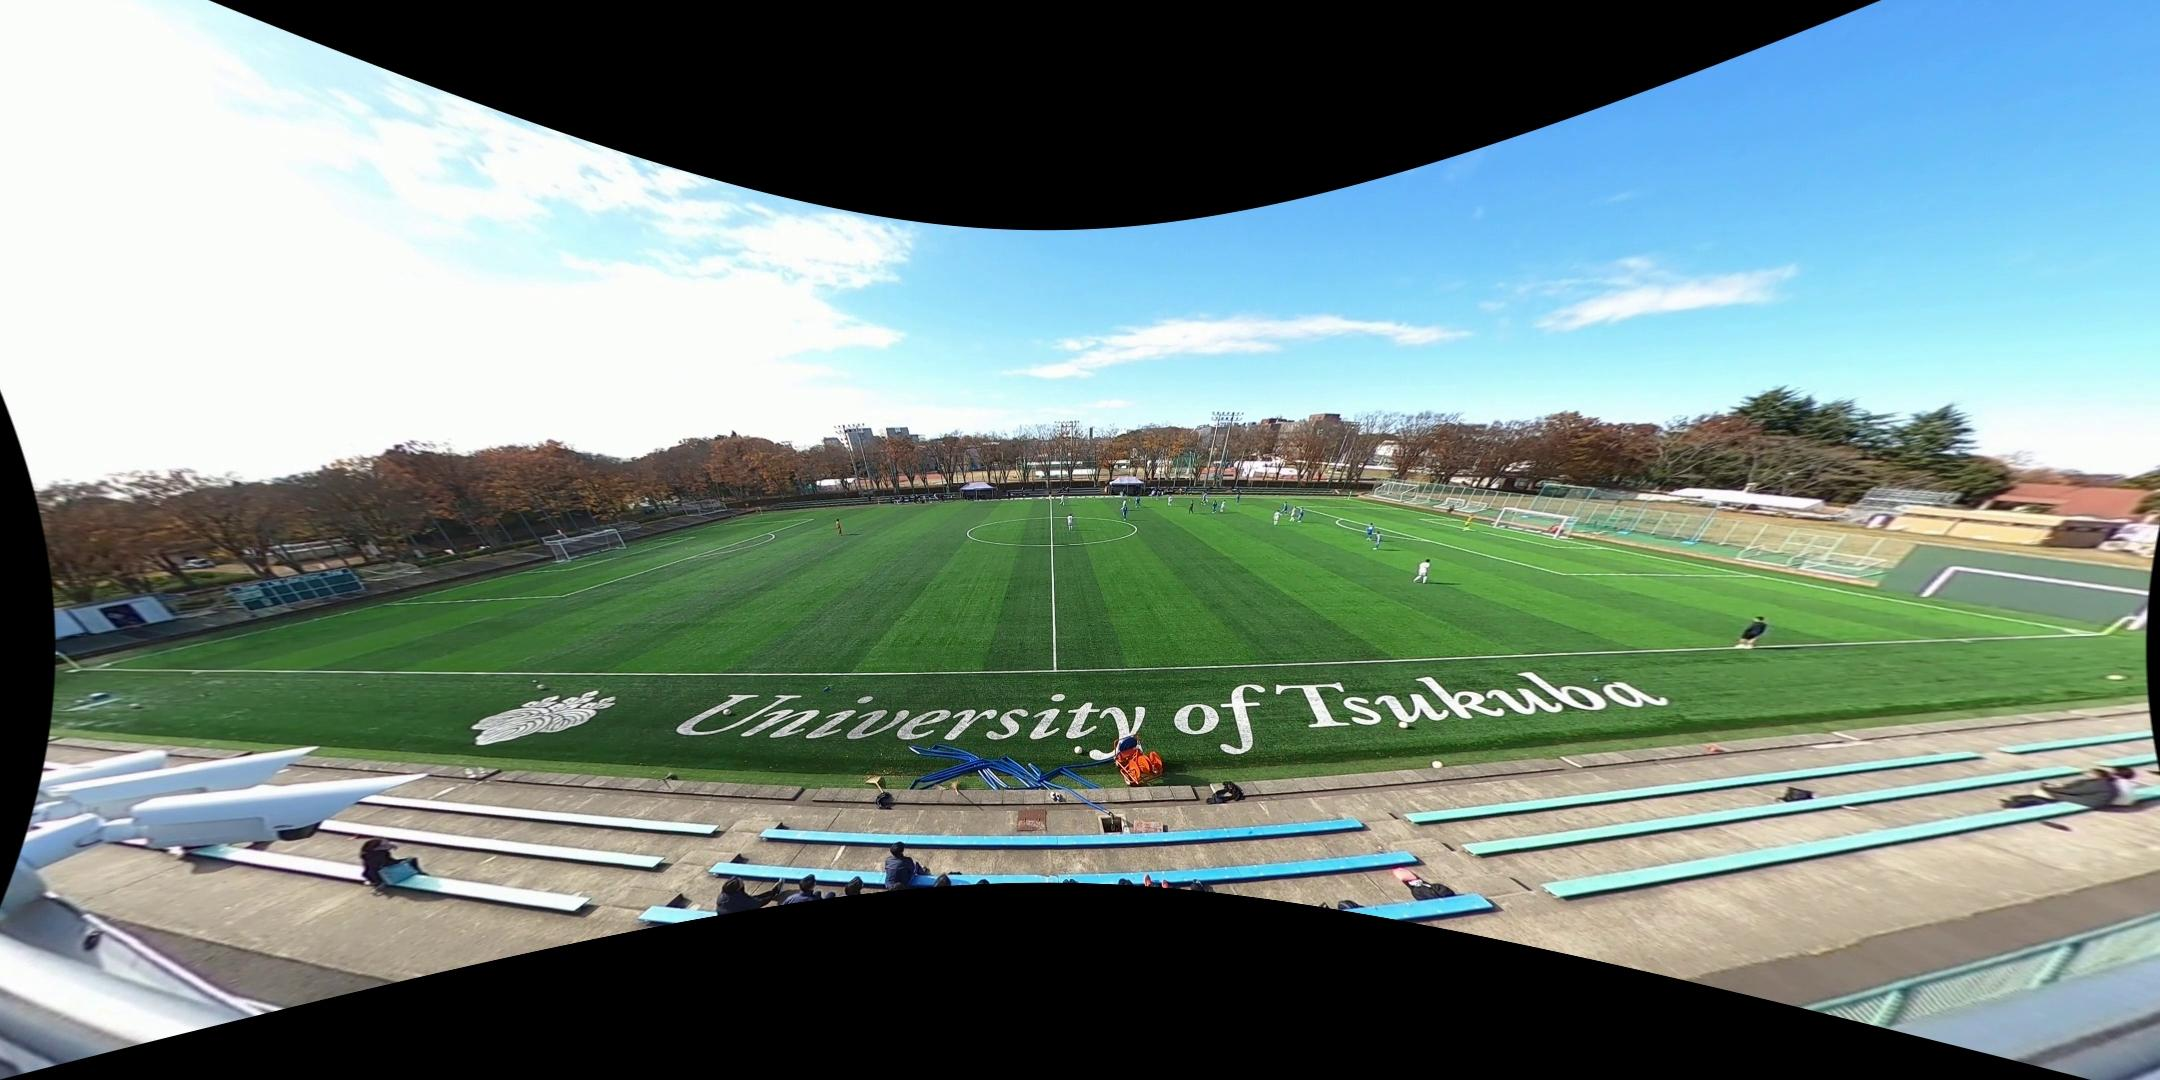person: (1736, 612, 1768, 648), (1413, 558, 1432, 584), (1371, 530, 1384, 550), (1462, 514, 1474, 533), (835, 518, 845, 536), (1366, 523, 1375, 542), (1289, 505, 1297, 523), (1272, 509, 1280, 526), (1067, 514, 1074, 530), (1188, 499, 1195, 514), (1211, 500, 1218, 514), (1220, 500, 1227, 514), (1119, 499, 1127, 511), (1200, 493, 1207, 506), (1280, 501, 1287, 514), (1299, 506, 1304, 524), (1123, 504, 1128, 521), (1059, 494, 1065, 506), (1134, 496, 1140, 508), (1149, 489, 1155, 501), (1235, 493, 1241, 504), (1156, 489, 1161, 501), (1168, 495, 1173, 507)
sports ball: (1430, 758, 1442, 770), (722, 707, 732, 718), (1071, 745, 1082, 755), (1400, 720, 1409, 731), (1128, 498, 1130, 502)
